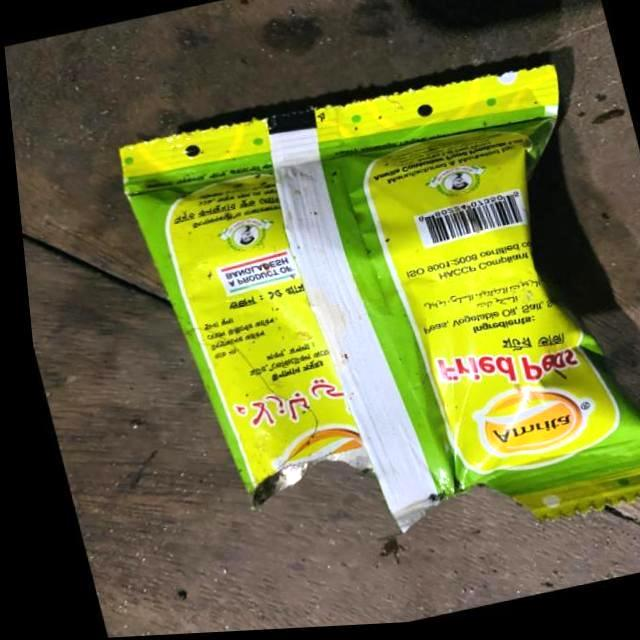packet: (234, 149, 605, 500)
